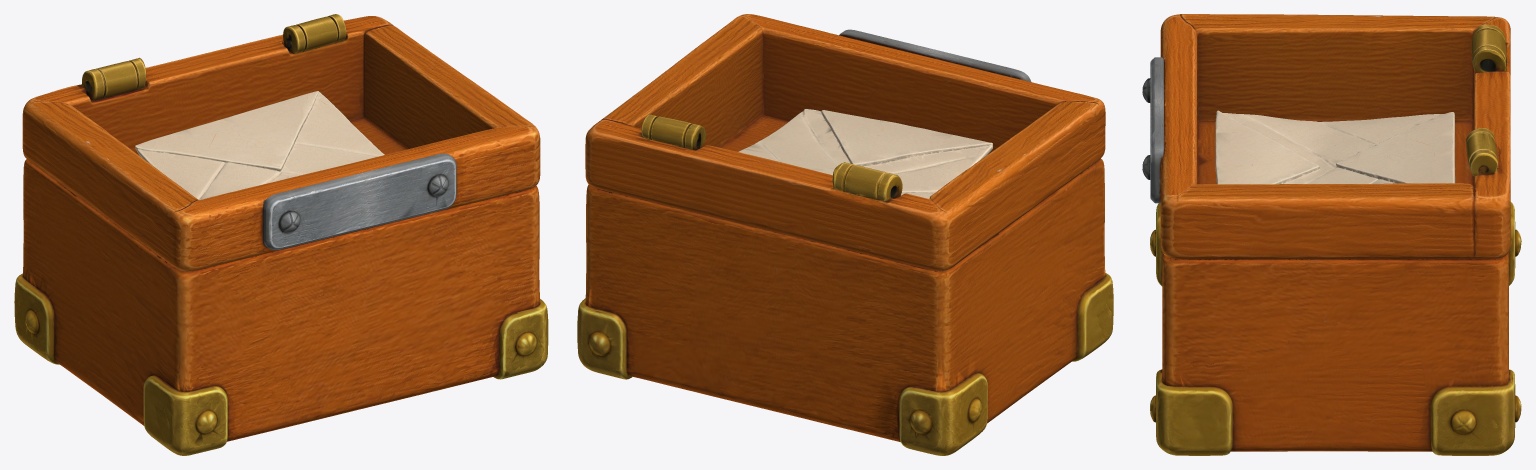
The model's file is box-body.glb.
3 views of the same model, side by side, from view 1: azimuth 30°, elevation 25°; view 2: azimuth 150°, elevation 25°; view 3: azimuth 270°, elevation 25° (orthographic). The views are drawn at different scales.
Bounding box in the file's own units: 0.1235 × 0.08 × 0.0984.
1 material, 1 textured.
